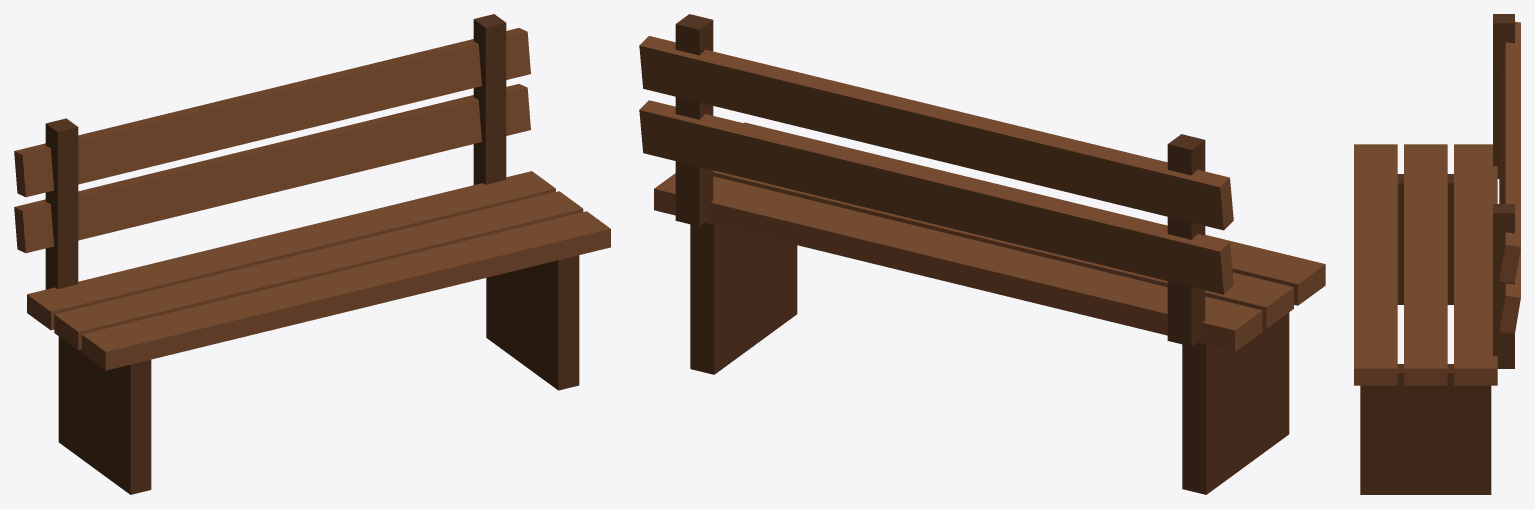
The model's file is banca.glb.
3 renders of one model, left to right at view 1: azimuth 30°, elevation 25°; view 2: azimuth 150°, elevation 25°; view 3: azimuth 270°, elevation 25°, orthographic. The views are drawn at different scales.
Visible parts, largest first — view 1: respaldo_1, respaldo_2, asiento_3, asiento_2, asiento_1, pata_1, pata_2, soporte_2, soporte_1; view 2: respaldo_1, respaldo_2, asiento_1, pata_1, pata_2, asiento_2, soporte_1, soporte_2, asiento_3; view 3: pata_2, asiento_2, asiento_3, asiento_1, respaldo_2, soporte_2, pata_1, soporte_1, respaldo_1.
Part boxes in pixels (box(x1,y1,x2,y2)): respaldo_1: box(14, 84, 530, 253); respaldo_2: box(14, 28, 530, 197); asiento_3: box(81, 211, 610, 370); asiento_2: box(54, 191, 583, 350); asiento_1: box(27, 171, 555, 330); pata_1: box(58, 336, 151, 494); pata_2: box(486, 255, 579, 390); soporte_2: box(473, 14, 506, 184); soporte_1: box(45, 118, 78, 289); respaldo_1: box(639, 100, 1233, 294); respaldo_2: box(639, 36, 1233, 230); asiento_1: box(654, 173, 1262, 351); pata_1: box(1182, 312, 1289, 494); pata_2: box(690, 223, 797, 374); asiento_2: box(713, 170, 1293, 328); soporte_1: box(1167, 134, 1205, 346); soporte_2: box(675, 14, 713, 226); asiento_3: box(744, 122, 1325, 305); pata_2: box(1360, 364, 1491, 494); asiento_2: box(1404, 144, 1447, 385); asiento_3: box(1354, 144, 1397, 385); asiento_1: box(1454, 144, 1497, 385); respaldo_2: box(1499, 21, 1520, 283); soporte_2: box(1493, 204, 1514, 368); pata_1: box(1397, 174, 1453, 304); soporte_1: box(1493, 14, 1514, 178); respaldo_1: box(1499, 248, 1520, 334).
Size of the model in its own units: 1.7 by 0.995 by 0.5344.
